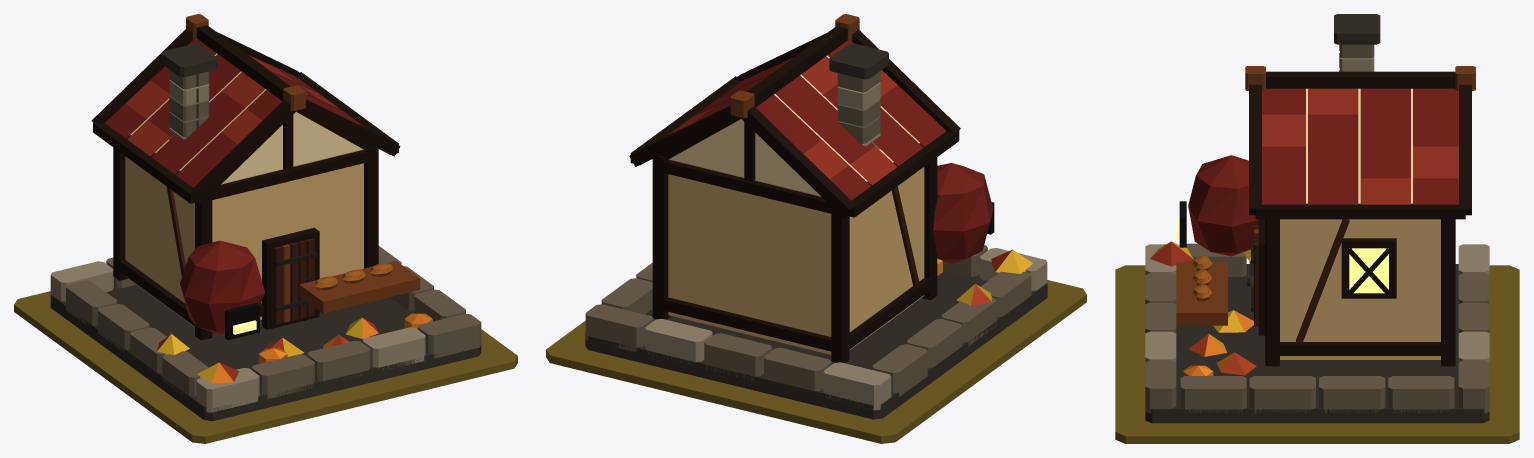
File: bakery_t3.glb
The picture shows the model from 3 angles, left to right: view 1: azimuth 30°, elevation 25°; view 2: azimuth 150°, elevation 25°; view 3: azimuth 270°, elevation 25°; orthographic projection. The views are drawn at different scales.
Parts seen in each view (by area): view 1: MMR | bakery | T03 Architecture.001, MMR | bakery | Tier 03 Ground.001, MMR | bakery | T03 Autumn Dressing.001; view 2: MMR | bakery | T03 Architecture.001, MMR | bakery | Tier 03 Ground.001, MMR | bakery | T03 Autumn Dressing.001; view 3: MMR | bakery | T03 Architecture.001, MMR | bakery | Tier 03 Ground.001, MMR | bakery | T03 Autumn Dressing.001.
Part boxes in pixels (bbox=[...]): MMR | bakery | T03 Architecture.001: bbox=[50, 14, 481, 421]; MMR | bakery | Tier 03 Ground.001: bbox=[14, 291, 517, 443]; MMR | bakery | T03 Autumn Dressing.001: bbox=[157, 313, 432, 383]; MMR | bakery | T03 Architecture.001: bbox=[585, 14, 1047, 419]; MMR | bakery | Tier 03 Ground.001: bbox=[546, 280, 1086, 443]; MMR | bakery | T03 Autumn Dressing.001: bbox=[937, 249, 1032, 305]; MMR | bakery | T03 Architecture.001: bbox=[1145, 14, 1489, 423]; MMR | bakery | Tier 03 Ground.001: bbox=[1115, 265, 1519, 443]; MMR | bakery | T03 Autumn Dressing.001: bbox=[1150, 241, 1256, 376].
Bounding box in the file's own units: 2.35 × 1.95 × 2.35.
2 materials, 1 textured.
